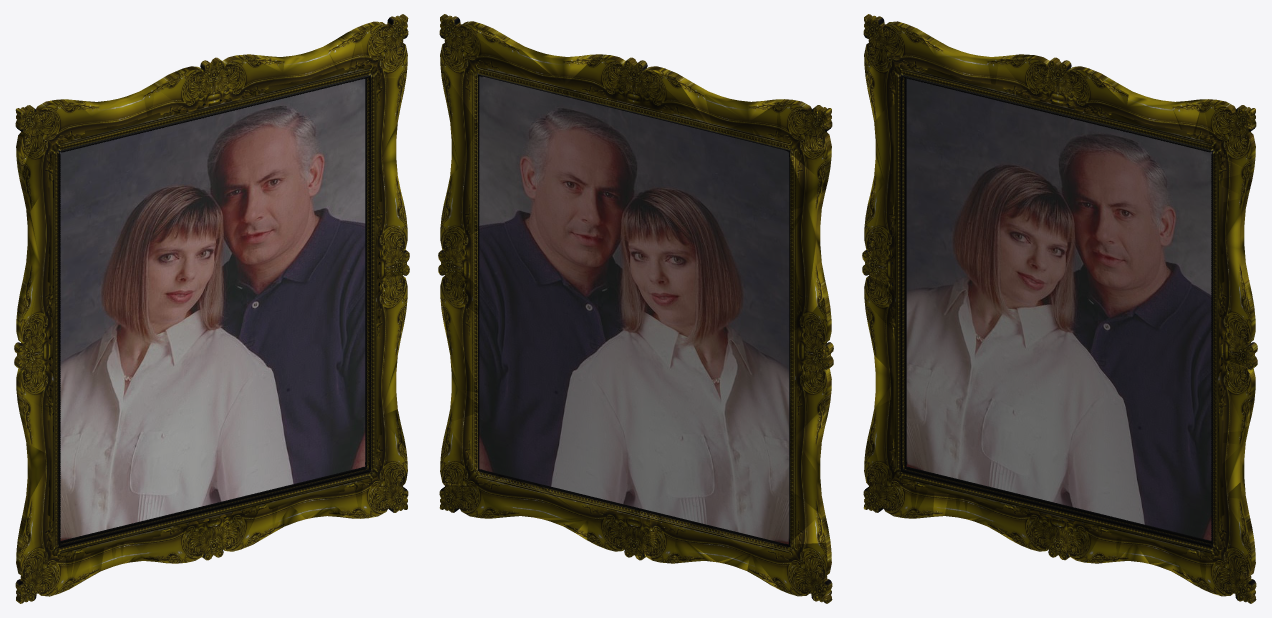
The model's file is photo.glb.
3 views of the same model, side by side, from view 1: azimuth 30°, elevation 25°; view 2: azimuth 150°, elevation 25°; view 3: azimuth 330°, elevation 25° (orthographic).
Parts seen in each view (by area): view 1: 1D_FRAME_A.002, 1D_FRAME_A.001; view 2: 1D_FRAME_A.002, 1D_FRAME_A.001; view 3: 1D_FRAME_A.002, 1D_FRAME_A.001.
Part boxes in pixels (<box>): 1D_FRAME_A.002: <box>59,78,365,540</box>; 1D_FRAME_A.001: <box>14,14,409,603</box>; 1D_FRAME_A.002: <box>479,76,789,544</box>; 1D_FRAME_A.001: <box>438,14,833,603</box>; 1D_FRAME_A.002: <box>906,78,1212,540</box>; 1D_FRAME_A.001: <box>862,14,1257,603</box>.
Bounding box in the file's own units: 5.4 × 6.55 × 0.1344.
2 materials, 2 textured.
